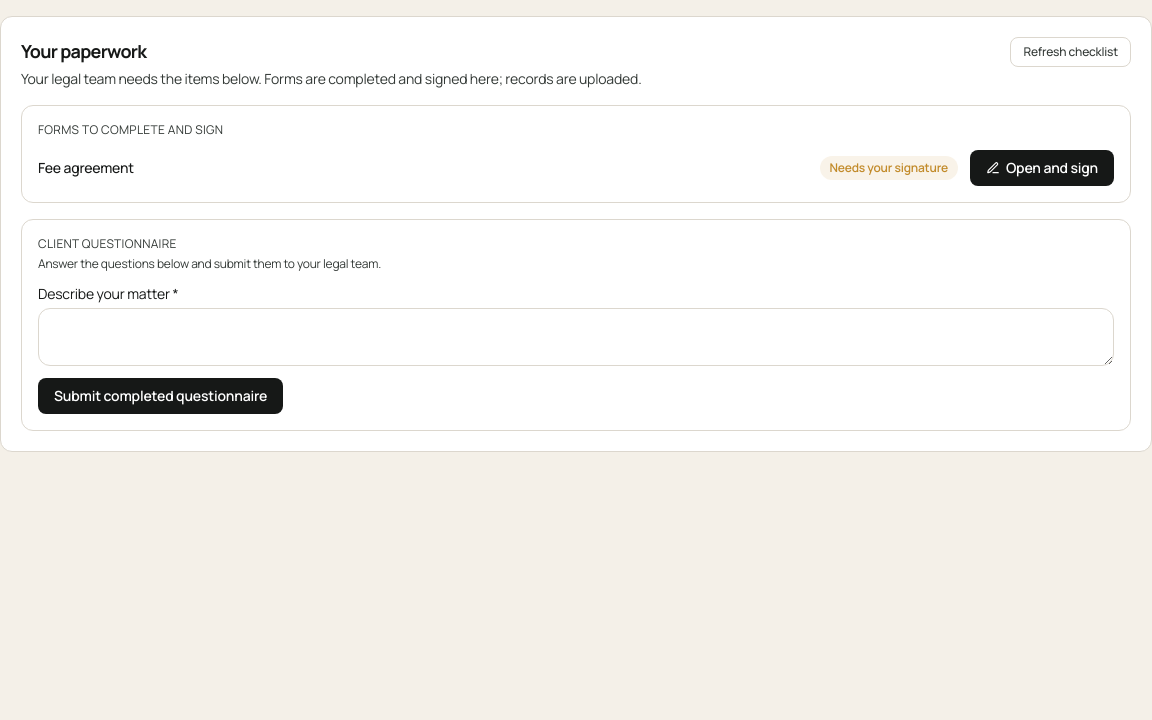
Test: preserves answers when submission fails
In the text box labelled "Describe your matter *": (576, 337) left=38, top=308, right=1114, bottom=366, type "My answer"
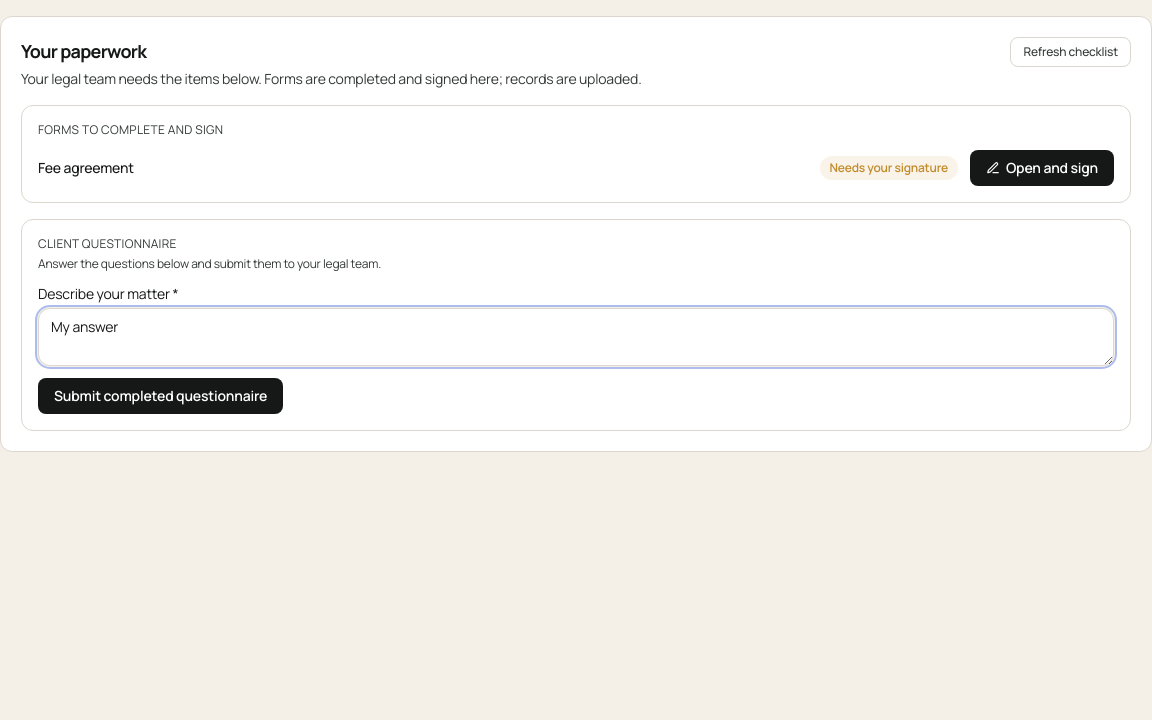
Click the button "Submit completed questionnaire": (161, 396) left=38, top=378, right=283, bottom=414
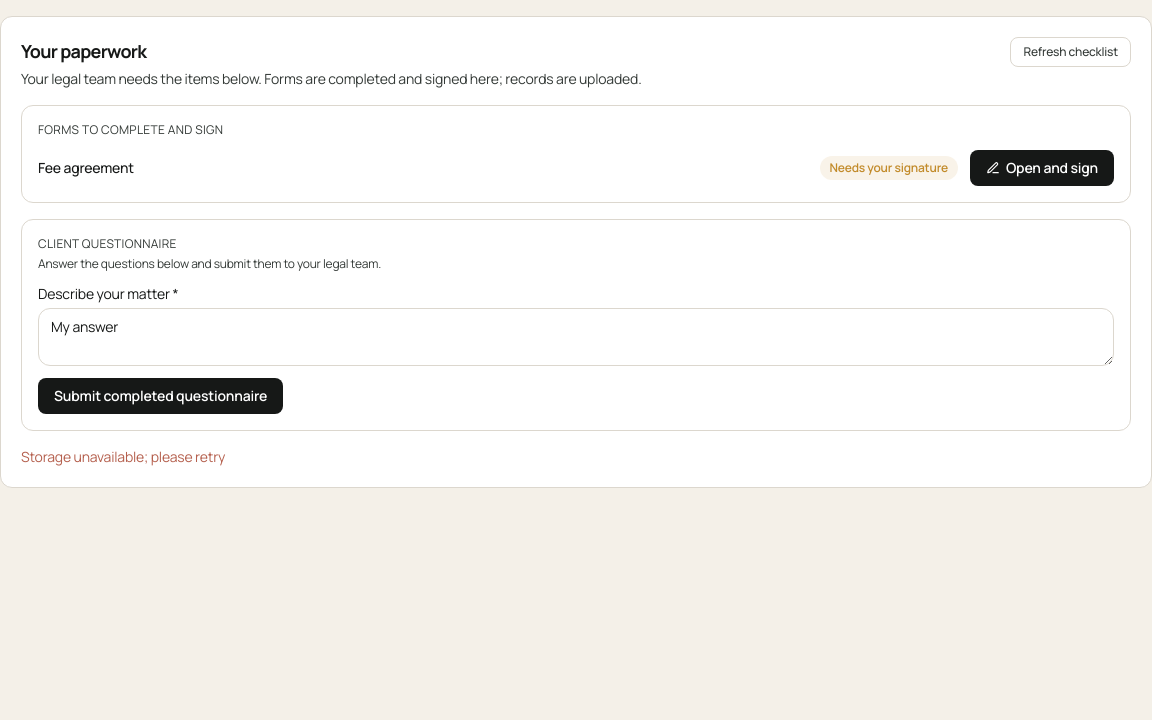
Check: the message shows "Storage unavailable", box left=21, top=447, right=225, bottom=466
